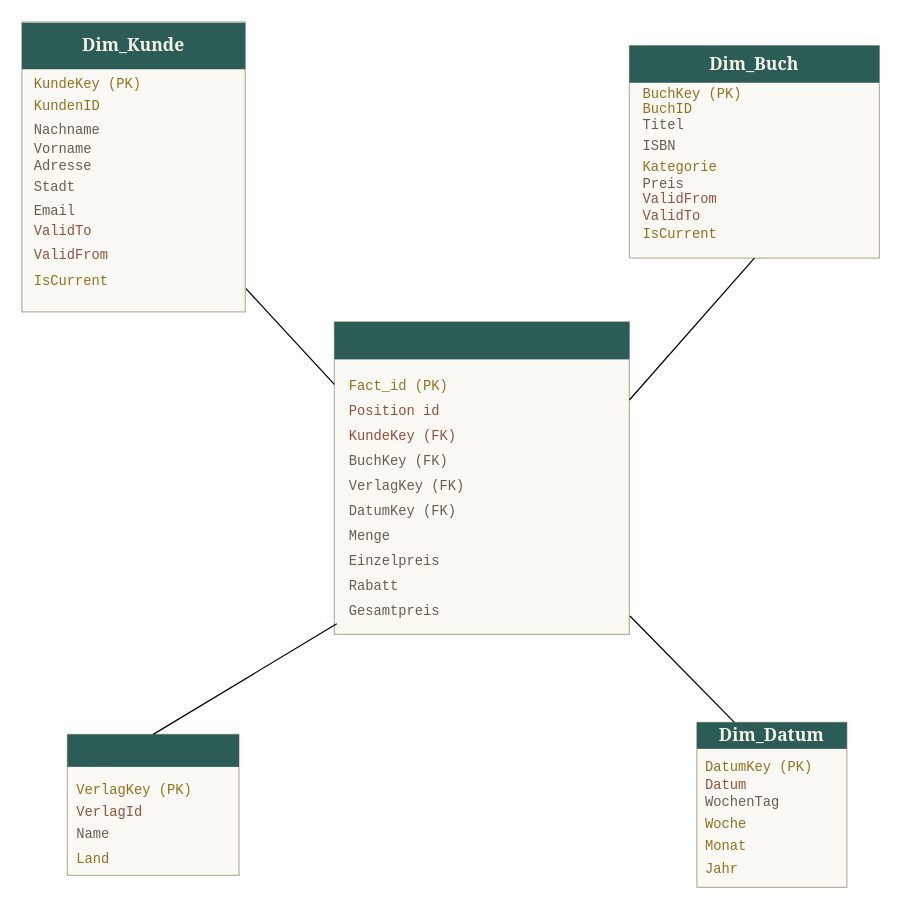
This 901x910 diagram has some shape labels left out. The shapes that lost their labels are listed below. From the top down, each one's box as (x1, y1, x2, y2) in pixels, then its label:
(334, 321, 629, 359): Fact_Bestellpositionen
(67, 734, 238, 766): Dim_Verlag
